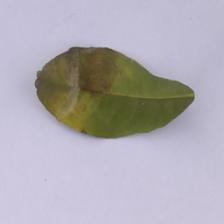black spot: (36, 44, 117, 102)
